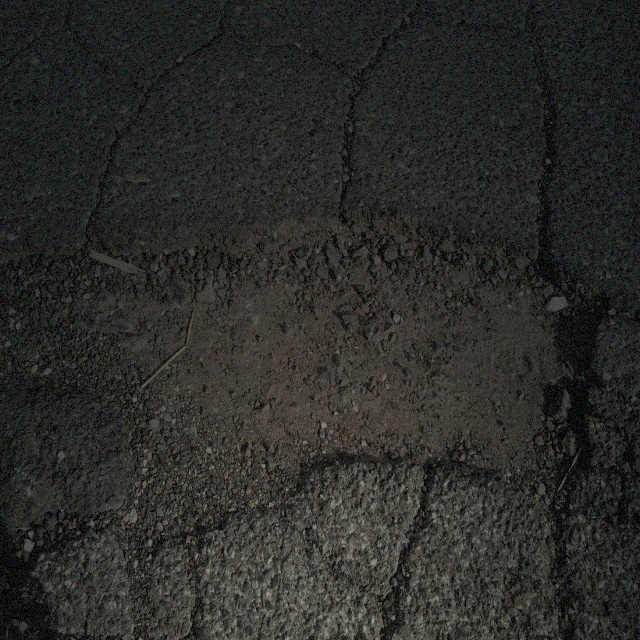pothole: (106, 181, 604, 575)
